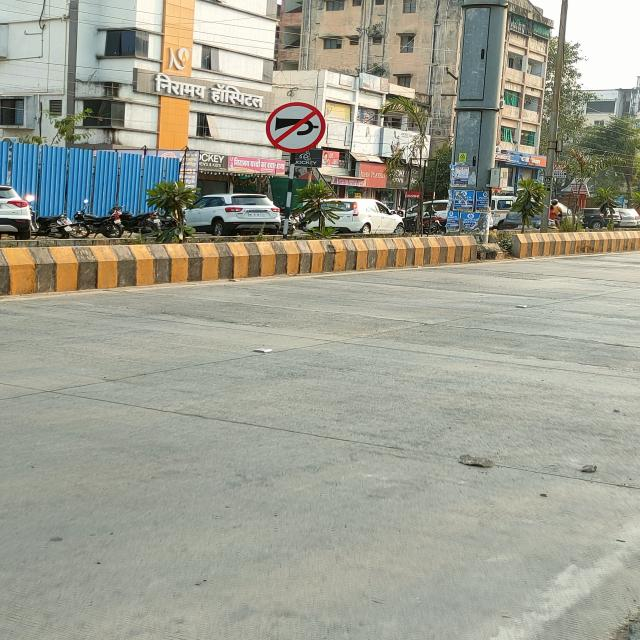HORN_PROHIBITED: (265, 101, 326, 150)
